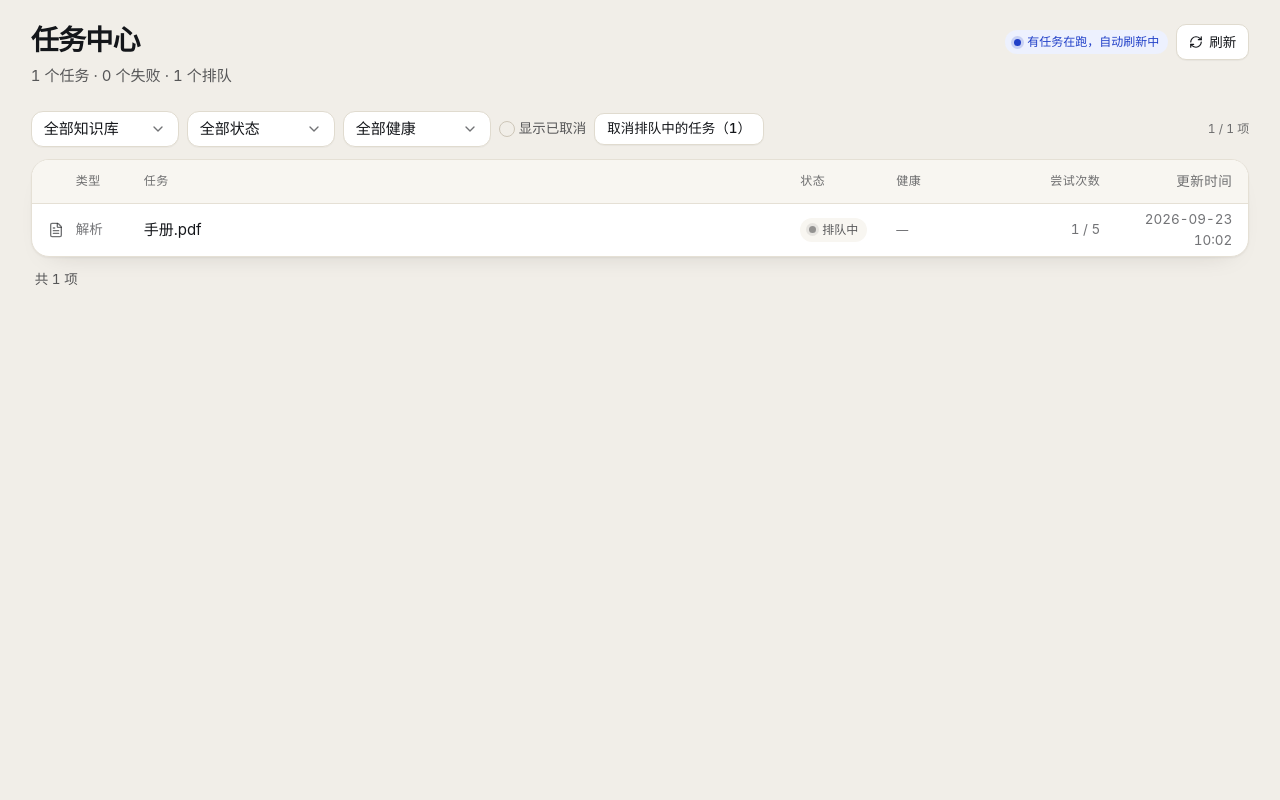
Scenario: 任务中心 › 批量撤下排队任务：确认后按成功/失败分别报，并带出第一条失败原因
Click the button "取消排队中的任务（1）" at (679, 129), box [594, 113, 764, 145]
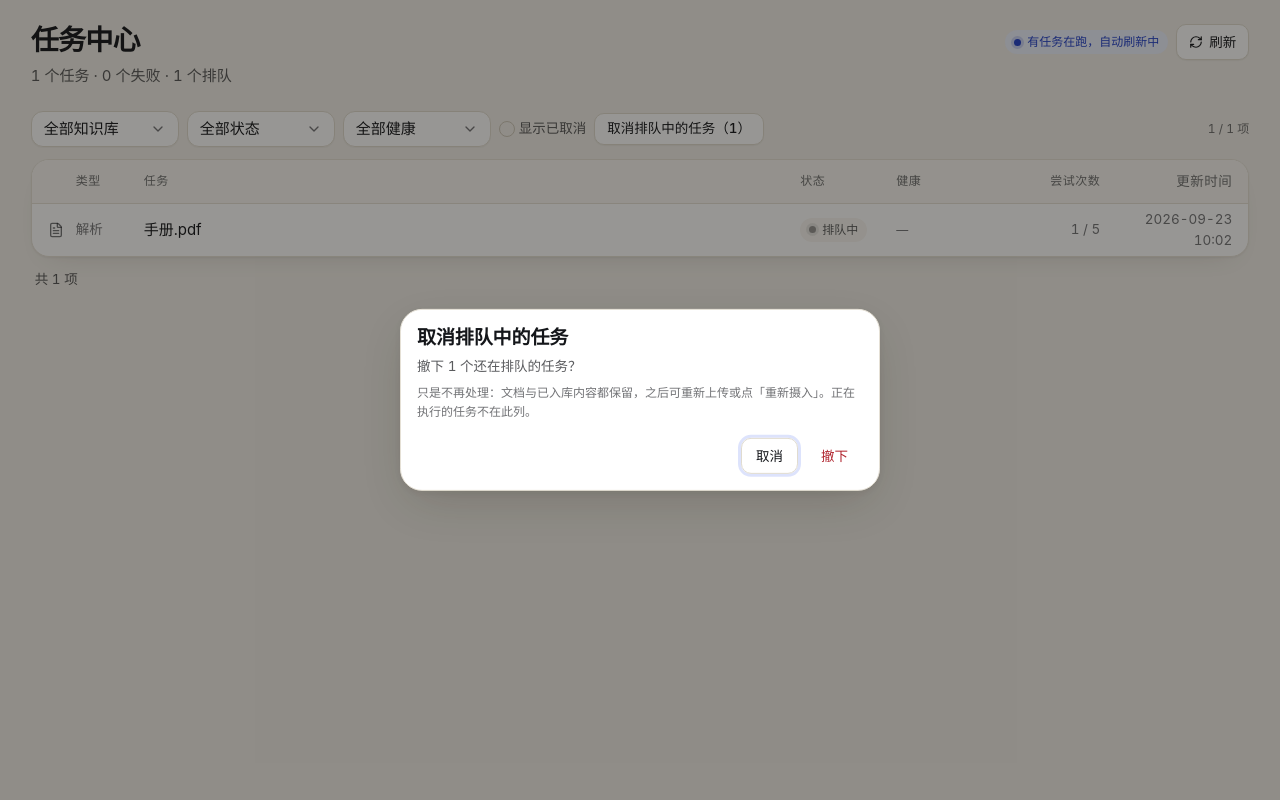
Click the button "撤下" at (834, 456), box [806, 438, 863, 474]
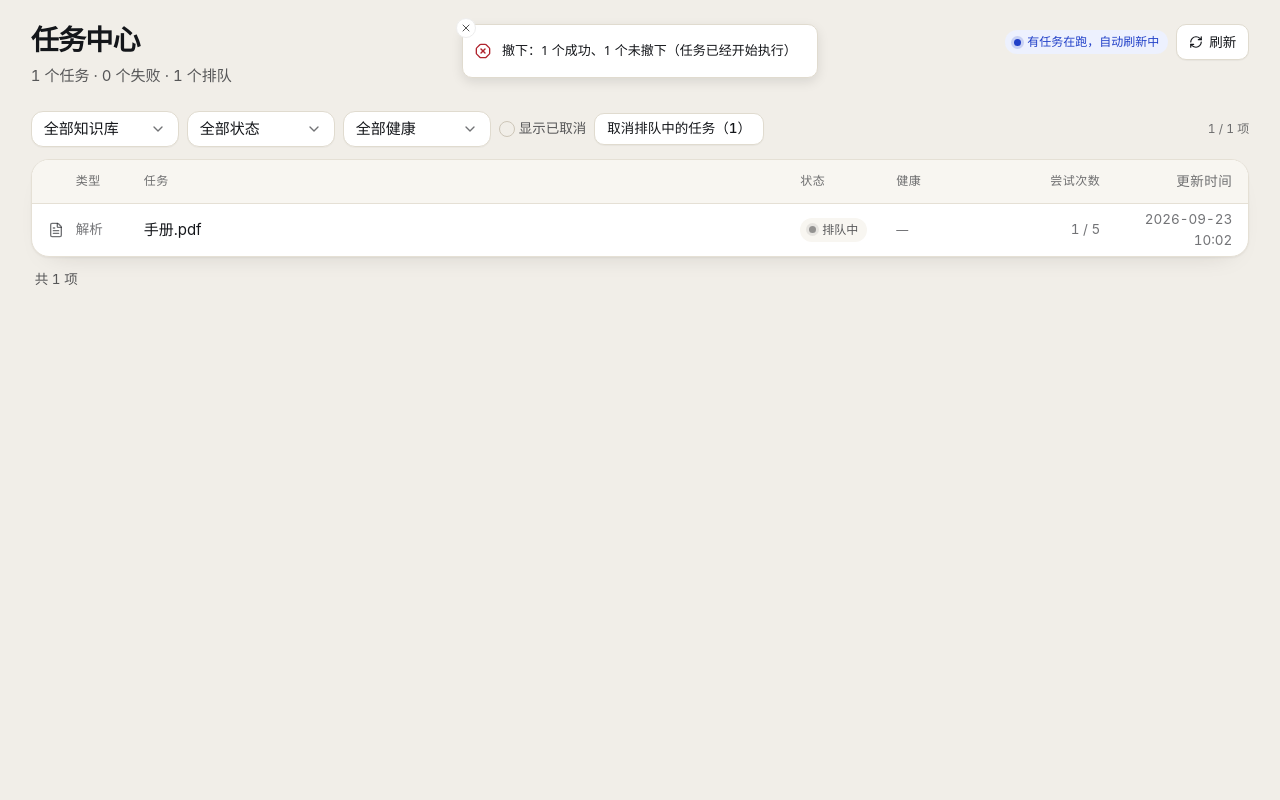
Result: the text "撤下：1 个成功、1 个未撤下（任务已经开始执行）" is shown at [502, 41, 797, 60]
